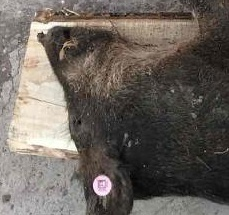text: (81, 164, 131, 211)
